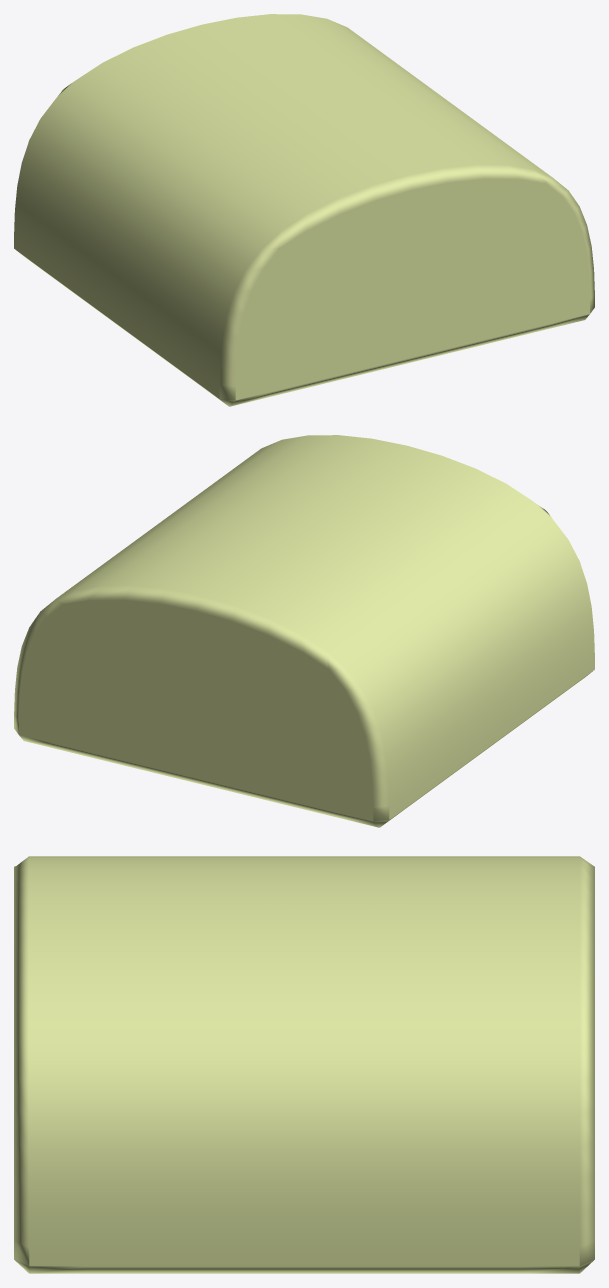
File: 1x0_5x1_Round_Roof.fbx
The picture shows the model from 3 angles, top to bottom: view 1: azimuth 30°, elevation 25°; view 2: azimuth 150°, elevation 25°; view 3: azimuth 270°, elevation 25°; orthographic projection. The views are drawn at different scales.
Parts seen in each view (by area): view 1: 1x0,5x1_Round_Roof; view 2: 1x0,5x1_Round_Roof; view 3: 1x0,5x1_Round_Roof.
Boxes of the visible parts, bbox=[...] form: 1x0,5x1_Round_Roof: bbox=[14, 14, 594, 406]; 1x0,5x1_Round_Roof: bbox=[14, 435, 594, 827]; 1x0,5x1_Round_Roof: bbox=[14, 856, 594, 1273].
Size of the model in its own units: 0.1 by 0.0479 by 0.1.
Materials: 1 (1 with a texture image).
